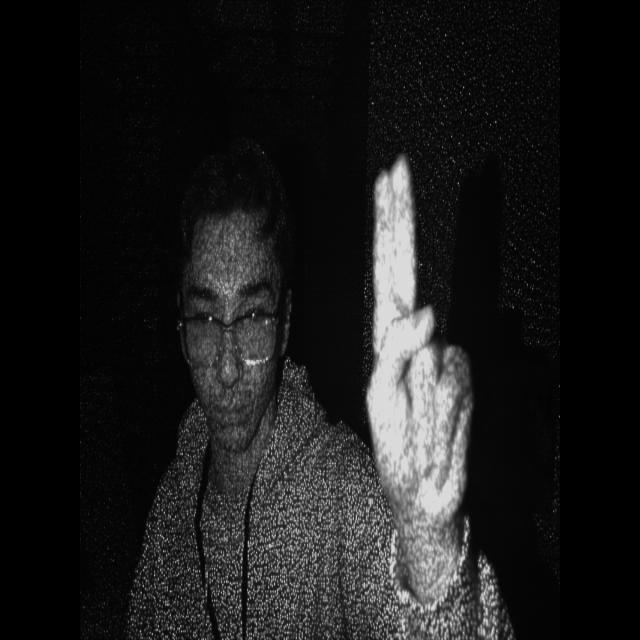U: (357, 137, 484, 541)
